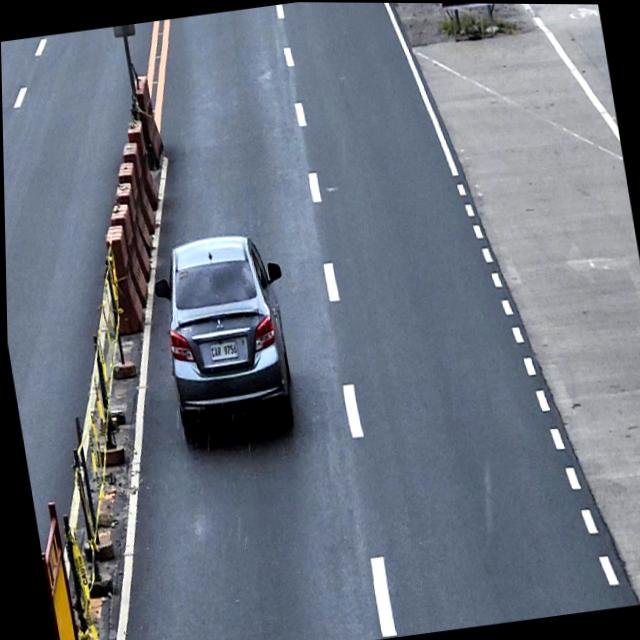Car: (146, 227, 305, 443)
License-Plate: (206, 337, 239, 362)
